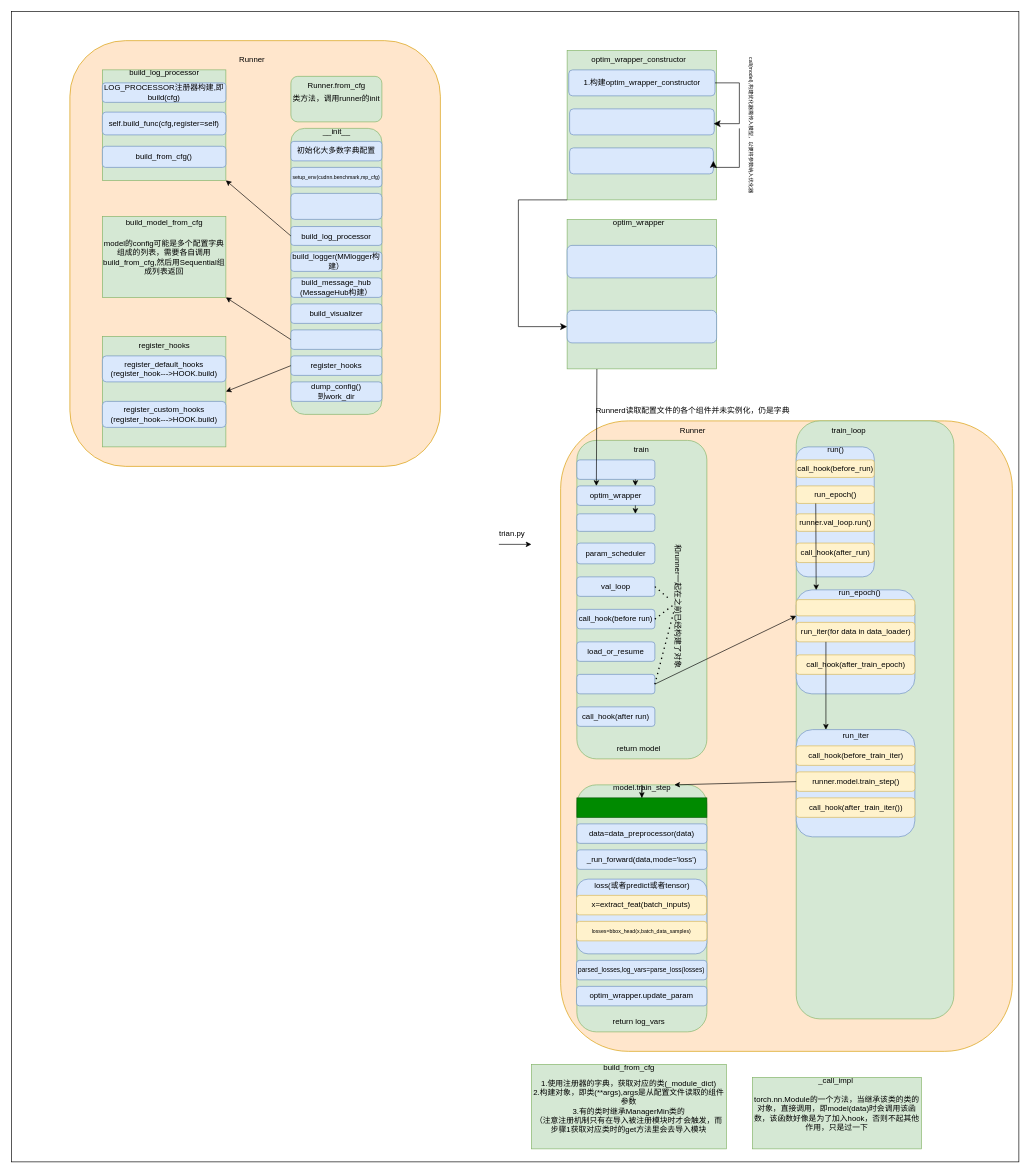
This 1030x1173 diagram has some shape labels left out. Here are the shapes that lost their labels. From the top down, the centre of each, then its label:
At pixel 641 121: "2.构建optimizer".
At pixel 641 160: "3.构建optim_wrapper".
At pixel 336 206: "设置default_scope,这是DefaultScope对象".
At pixel 641 261: "1.如果是Optimizer对象，则由OPTIM_WRAPPERS进行构建".
At pixel 336 339: "build_model (build_model_from_cfg)".
At pixel 641 326: "2.如果是dict且含有constructor字段，则由build_optim_wrapper进行构建".
At pixel 615 469: "_train_loop".
At pixel 615 522: "scale_lr".
At pixel 855 607: "call_hook(before_train_epoch)".
At pixel 615 684: "model=train_loop.run()".
At pixel 641 807: "data,optim_wrapper".
